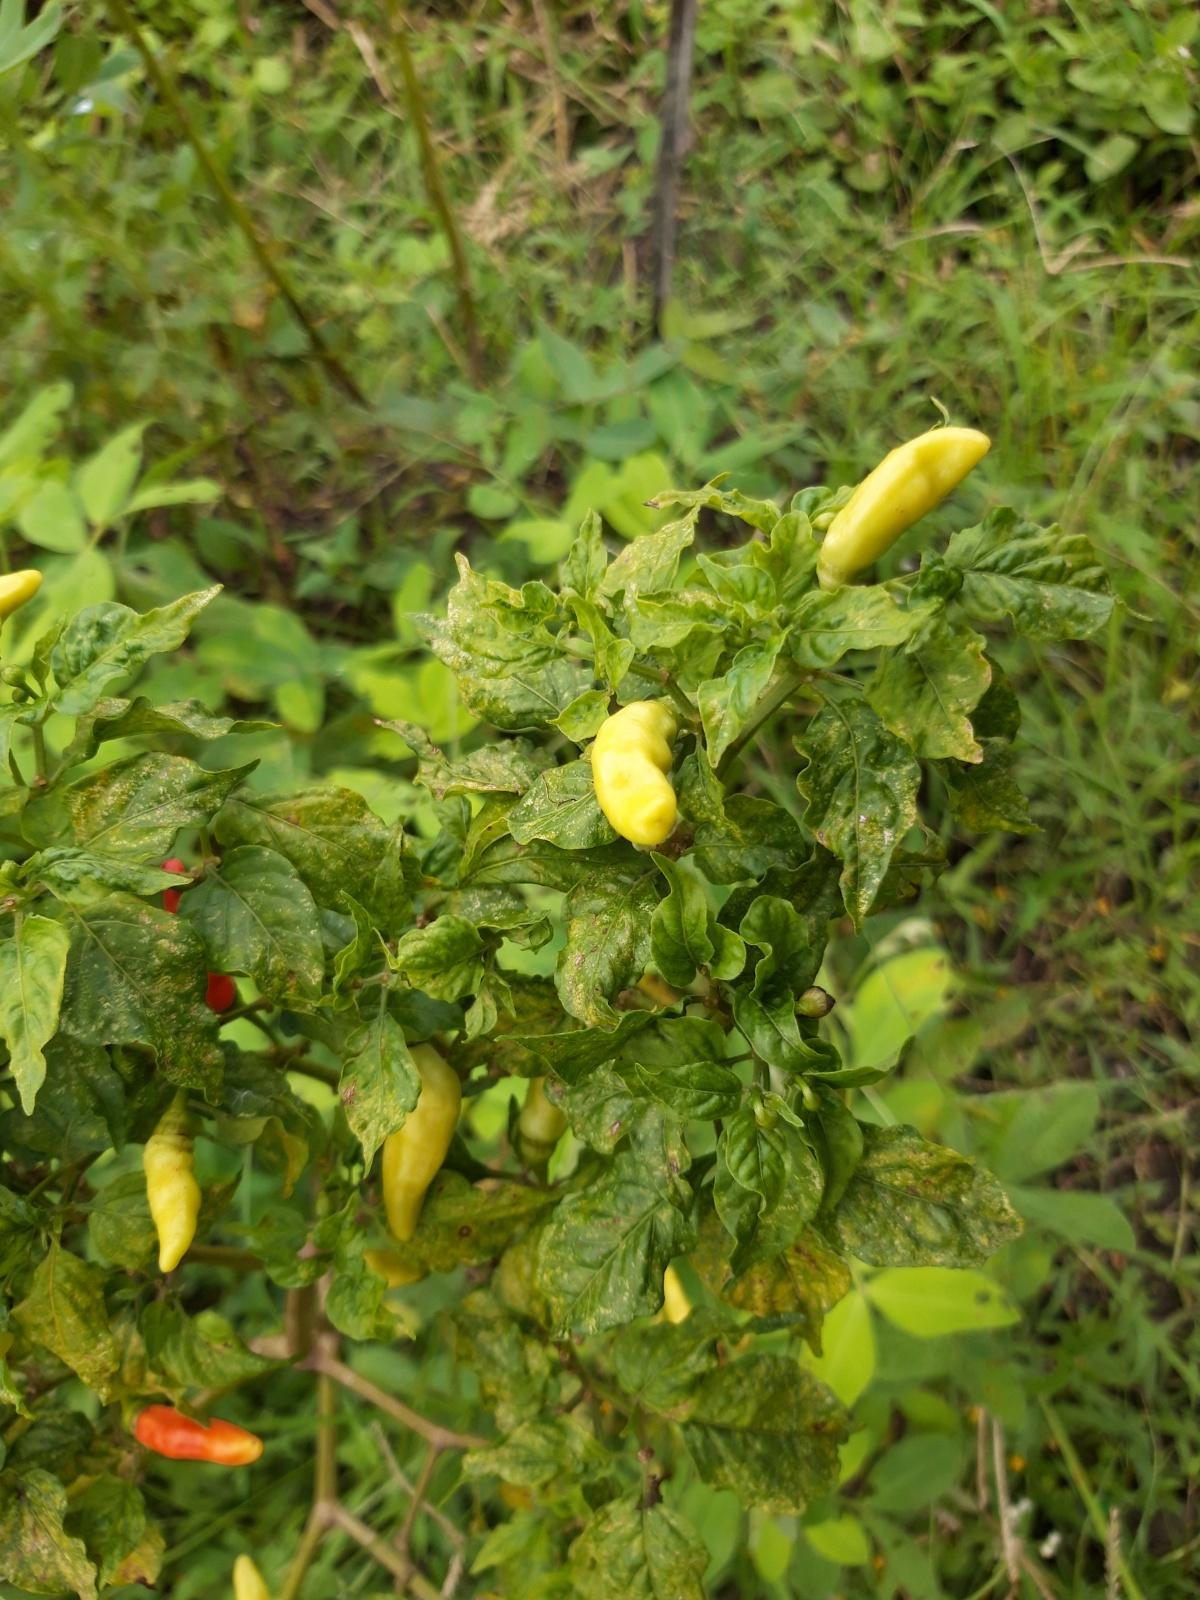cabai_normal: (819, 426, 992, 583), (382, 1038, 459, 1242), (590, 695, 679, 845), (142, 1129, 200, 1272), (127, 1405, 263, 1464)
